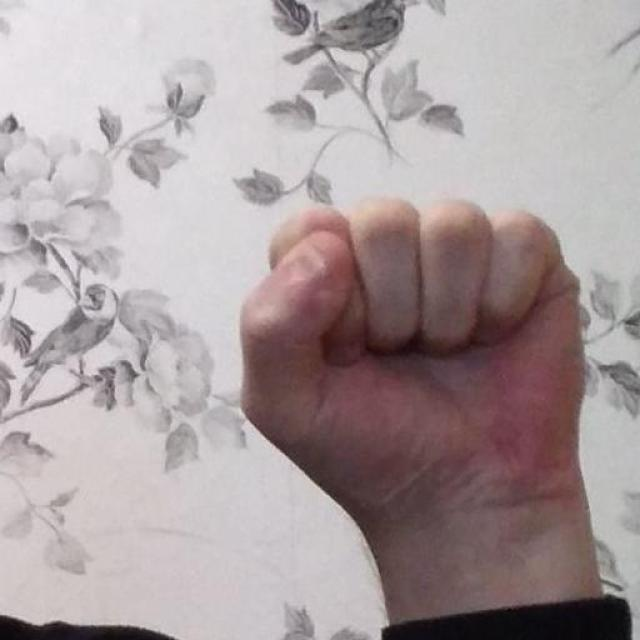hand: (237, 194, 605, 624)
